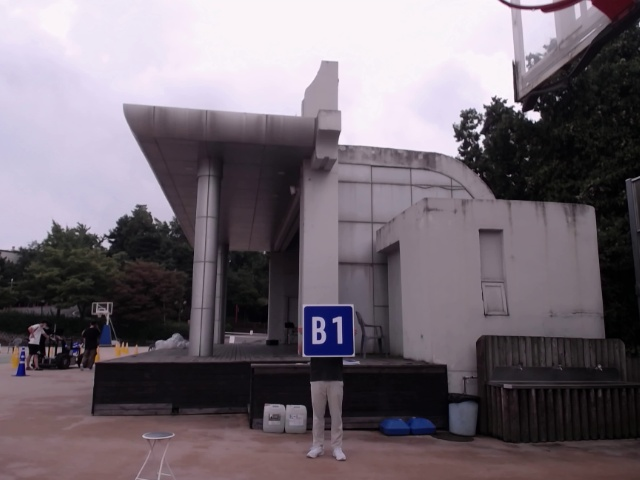delivery_b1: (302, 304, 355, 357)
